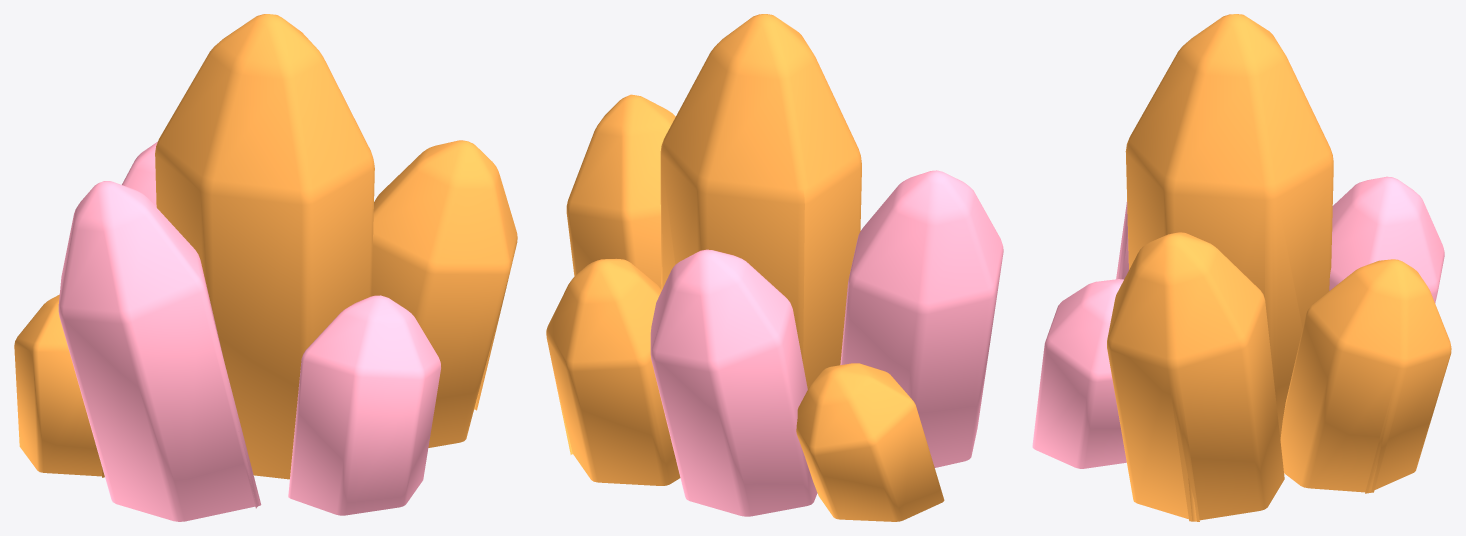
File: candy_rock.glb
The picture shows the model from 3 angles, left to right: view 1: azimuth 30°, elevation 25°; view 2: azimuth 150°, elevation 25°; view 3: azimuth 270°, elevation 25°; orthographic projection.
Visible parts, largest first — view 1: candy_rock; view 2: candy_rock; view 3: candy_rock.
Boxes of the visible parts, x1,y1,x2,y2 form: candy_rock: (14,14,517,521); candy_rock: (546,14,1003,521); candy_rock: (1032,14,1451,521).
Size of the model in its own units: 3 by 2.79 by 2.54.
